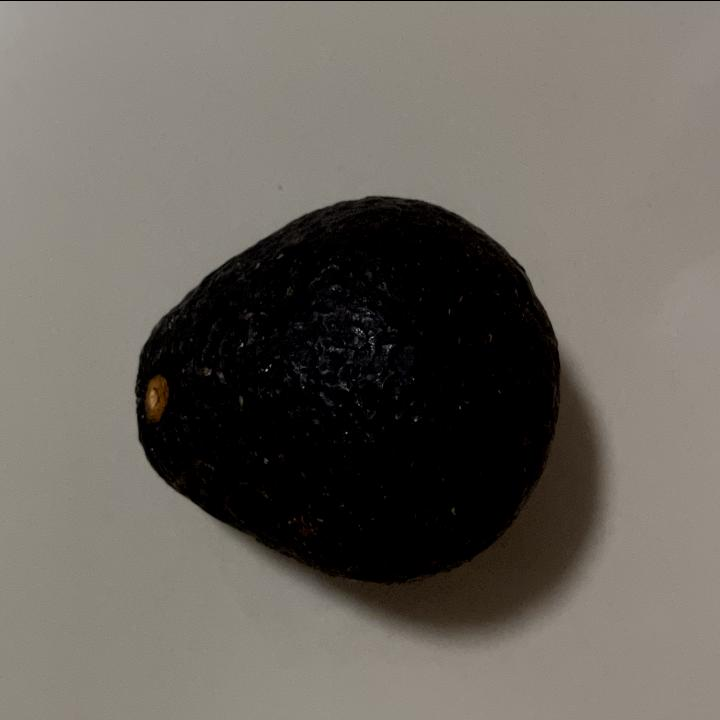Level3: (126, 178, 566, 592)
